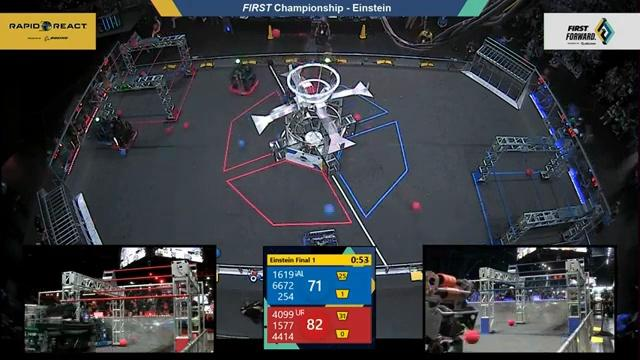robot: (228, 63, 260, 97), (110, 116, 138, 152), (302, 228, 340, 246), (95, 114, 112, 148)
